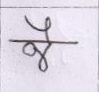ai_matra: (25, 14, 55, 40)
